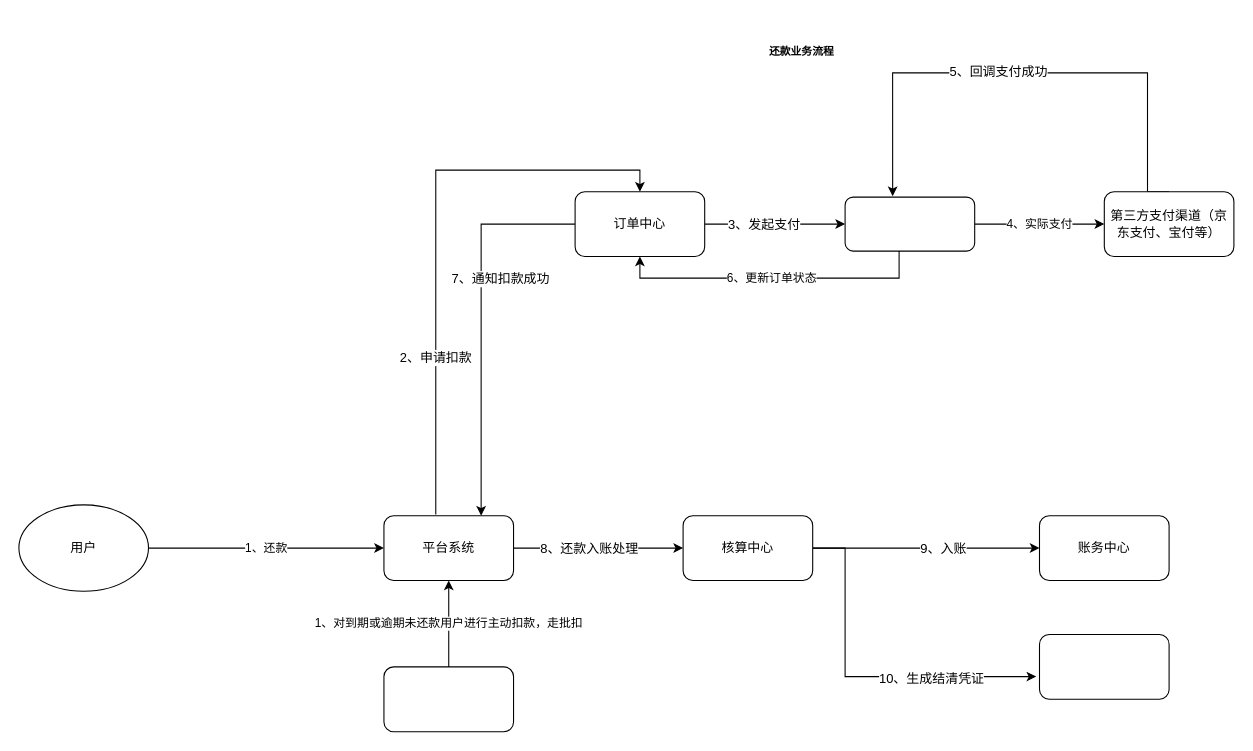
Some shapes in this 1253 by 751 pixel diagram are drawn without their labels. Each missing label, with the centre of its shape:
"合同中心" belongs at (1103,666).
"支付中心" belongs at (909,223).
"跑批中心" belongs at (448,699).
